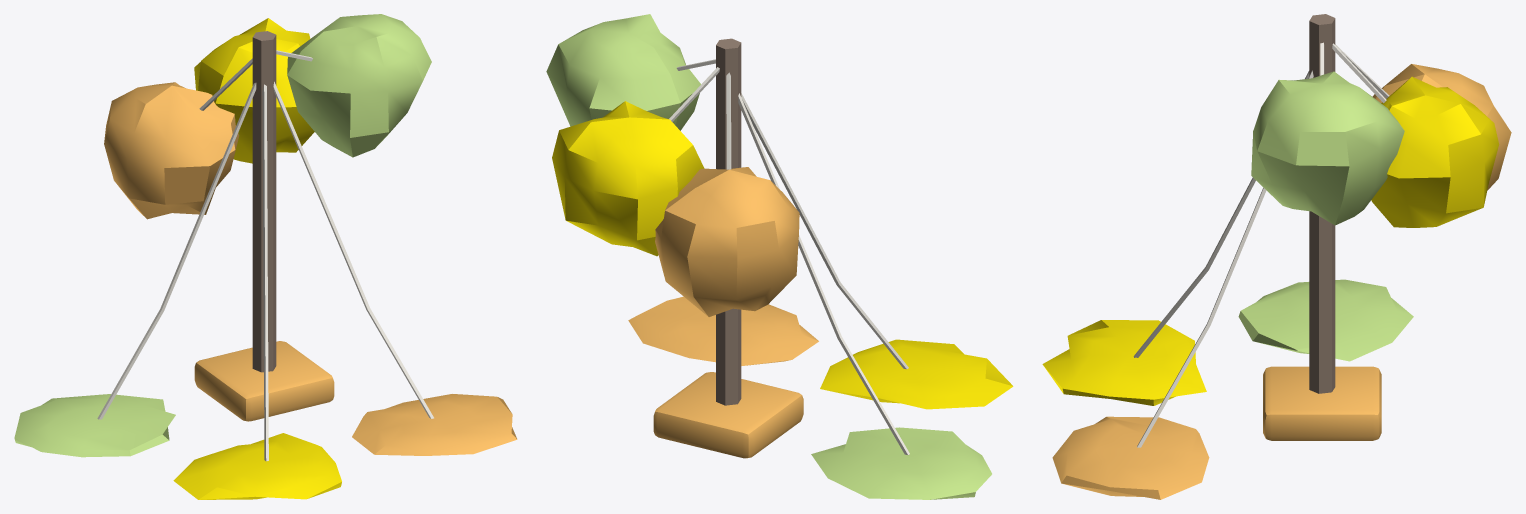
File: TW_DeflatedBalloons.fbx
3 views of the same model, side by side, from view 1: azimuth 30°, elevation 25°; view 2: azimuth 150°, elevation 25°; view 3: azimuth 270°, elevation 25° (orthographic). The views are drawn at different scales.
Visible parts, largest first — view 1: Body; view 2: Body; view 3: Body.
Part boxes in pixels (box(x1,y1,x2,y2)): Body: box(14, 14, 517, 499); Body: box(546, 14, 1013, 499); Body: box(1042, 14, 1511, 499).
Bounding box in the file's own units: 3.08 × 2.61 × 2.77.
